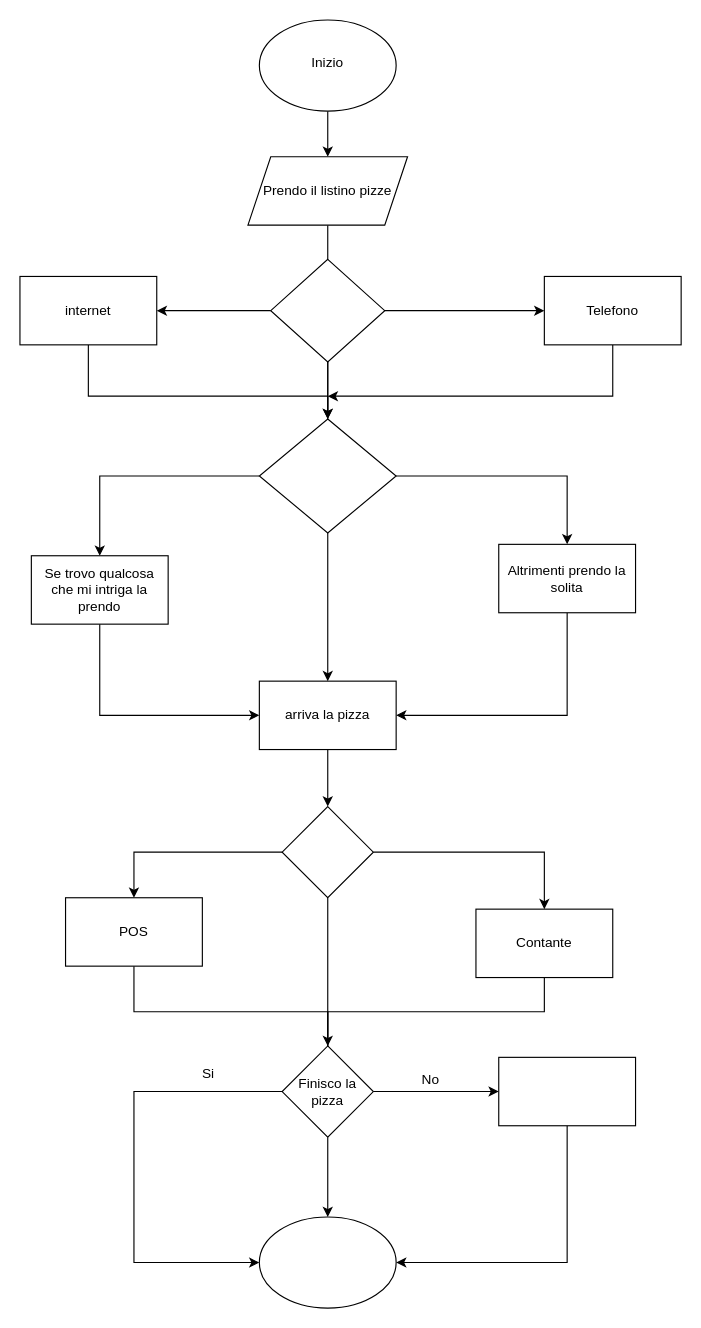
Image size: 701x1328. Some labels were removed from this diagram. The shapes that lost their labels are listed below. From the top down, each one's box as (x1, y1, x2, y2) in pixels, then its label:
(270, 258, 385, 362): Decido dove ordinarla
(258, 418, 396, 533): Controllo se c'è qualcosa che mi piaccia
(281, 805, 373, 898): pago
(498, 1056, 636, 1126): la metto in frigo
(258, 1216, 396, 1308): fine
